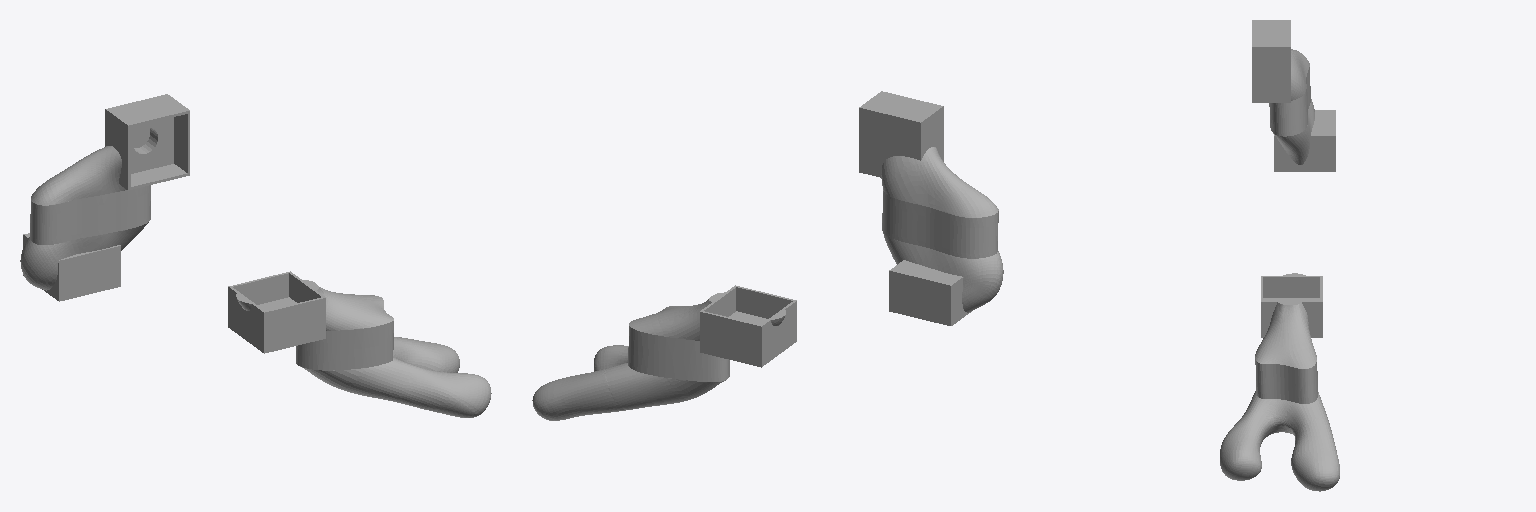
The robot description file, URDF, robot "FrogBot3_top-FrogBot3-x-6_bottom-FrogBot3-x-6":
<?xml version="1.0" ?>
<robot name="FrogBot3_top-FrogBot3-x-6_bottom-FrogBot3-x-6">

<material name="pla_5_percent_infill">
  <color rgba="0.700 0.700 0.700 1.000"/>
</material>

<link name="base_link">
  <inertial>
    <origin xyz="0 0 0" rpy="0 0 0"/>
    <mass value="1.5419899792307459"/>
    <inertia ixx="0.0054836076661745285" iyy="0.013703915460827342" izz="0.013742849788882953" ixy="5.961000823851627e-05" iyz="4.9944941207841843e-05" ixz="-0.0023657822822012154"/>
  </inertial>
  <visual>
    <origin xyz="0 0 0" rpy="0 0 0"/>
    <geometry>
      <mesh filename="simple_meshes/base_link.stl" scale="0.001 0.001 0.001"/>
    </geometry>
    <material name="pla_5_percent_infill"/>
  </visual>
  <collision>
    <origin xyz="0 0 0" rpy="0 0 0"/>
    <geometry>
      <mesh filename="simple_meshes/base_link.stl" scale="0.001 0.001 0.001"/>
    </geometry>
  </collision>
</link>

<link name="body_1_0_1">
  <inertial>
    <origin xyz="-0.065859 -0.113451 -0.001976" rpy="0 0 0"/>
    <mass value="0.05043908989480724"/>
    <inertia ixx="5.151558149315378e-05" iyy="6.866318900785719e-05" izz="2.897932103452334e-05" ixy="3.589591955085558e-06" iyz="4.757608579890023e-06" ixz="-1.8146799378408667e-05"/>
  </inertial>
  <visual>
    <origin xyz="-0.065859 -0.113451 -0.001976" rpy="0 0 0"/>
    <geometry>
      <mesh filename="simple_meshes/body_1_0_1.stl" scale="0.001 0.001 0.001"/>
    </geometry>
    <material name="pla_5_percent_infill"/>
  </visual>
  <collision>
    <origin xyz="-0.065859 -0.113451 -0.001976" rpy="0 0 0"/>
    <geometry>
      <mesh filename="simple_meshes/body_1_0_1.stl" scale="0.001 0.001 0.001"/>
    </geometry>
  </collision>
</link>

<link name="body_1_1_1">
  <inertial>
    <origin xyz="0.083929 -0.113451 -0.010696" rpy="0 0 0"/>
    <mass value="0.07735615922327133"/>
    <inertia ixx="7.661127751204967e-05" iyy="0.00012118125343421517" izz="6.355575032887008e-05" ixy="6.802552610843133e-06" iyz="1.1913213214781774e-05" ixz="-3.0703826171547875e-05"/>
  </inertial>
  <visual>
    <origin xyz="0.083929 -0.113451 -0.010696" rpy="0 0 0"/>
    <geometry>
      <mesh filename="simple_meshes/body_1_1_1.stl" scale="0.001 0.001 0.001"/>
    </geometry>
    <material name="pla_5_percent_infill"/>
  </visual>
  <collision>
    <origin xyz="0.083929 -0.113451 -0.010696" rpy="0 0 0"/>
    <geometry>
      <mesh filename="simple_meshes/body_1_1_1.stl" scale="0.001 0.001 0.001"/>
    </geometry>
  </collision>
</link>

<link name="body_1_2_1">
  <inertial>
    <origin xyz="-0.060736 0.113451 -0.005366" rpy="0 0 0"/>
    <mass value="0.05252108979018033"/>
    <inertia ixx="5.6589542939458485e-05" iyy="7.25045065193594e-05" izz="2.869614373473585e-05" ixy="-3.675795222811179e-06" iyz="-6.817511518527784e-06" ixz="-1.8965648842224448e-05"/>
  </inertial>
  <visual>
    <origin xyz="-0.060736 0.113451 -0.005366" rpy="0 0 0"/>
    <geometry>
      <mesh filename="simple_meshes/body_1_2_1.stl" scale="0.001 0.001 0.001"/>
    </geometry>
    <material name="pla_5_percent_infill"/>
  </visual>
  <collision>
    <origin xyz="-0.060736 0.113451 -0.005366" rpy="0 0 0"/>
    <geometry>
      <mesh filename="simple_meshes/body_1_2_1.stl" scale="0.001 0.001 0.001"/>
    </geometry>
  </collision>
</link>

<link name="body_1_3_1">
  <inertial>
    <origin xyz="0.093982 0.113451 -0.005431" rpy="0 0 0"/>
    <mass value="0.07948951377916055"/>
    <inertia ixx="7.141694540946722e-05" iyy="0.00010771956399897018" izz="5.738964925272767e-05" ixy="-5.114019119288474e-06" iyz="-1.0652062142099184e-05" ixz="-2.2687922658366777e-05"/>
  </inertial>
  <visual>
    <origin xyz="0.093982 0.113451 -0.005431" rpy="0 0 0"/>
    <geometry>
      <mesh filename="simple_meshes/body_1_3_1.stl" scale="0.001 0.001 0.001"/>
    </geometry>
    <material name="pla_5_percent_infill"/>
  </visual>
  <collision>
    <origin xyz="0.093982 0.113451 -0.005431" rpy="0 0 0"/>
    <geometry>
      <mesh filename="simple_meshes/body_1_3_1.stl" scale="0.001 0.001 0.001"/>
    </geometry>
  </collision>
</link>

<link name="body_2_0_1">
  <inertial>
    <origin xyz="-0.026166 -0.164707 0.112895" rpy="0 0 0"/>
    <mass value="0.10714826643191856"/>
    <inertia ixx="0.00011232062327592215" iyy="0.00023869567646114549" izz="0.00020645174976957397" ixy="3.3526182007755957e-06" iyz="-4.35639341365545e-06" ixz="8.953426446172905e-05"/>
  </inertial>
  <visual>
    <origin xyz="-0.026166 -0.164707 0.112895" rpy="0 0 0"/>
    <geometry>
      <mesh filename="simple_meshes/body_2_0_1.stl" scale="0.001 0.001 0.001"/>
    </geometry>
    <material name="pla_5_percent_infill"/>
  </visual>
  <collision>
    <origin xyz="-0.026166 -0.164707 0.112895" rpy="0 0 0"/>
    <geometry>
      <mesh filename="simple_meshes/body_2_0_1.stl" scale="0.001 0.001 0.001"/>
    </geometry>
  </collision>
</link>

<link name="body_2_1_1">
  <inertial>
    <origin xyz="0.127747 -0.174737 0.112895" rpy="0 0 0"/>
    <mass value="0.08654272336315388"/>
    <inertia ixx="7.902582759414419e-05" iyy="0.00012933616828467078" izz="0.00010678204388521679" ixy="-9.998369641293046e-06" iyz="4.7074206892803484e-06" ixz="4.8814511074510075e-05"/>
  </inertial>
  <visual>
    <origin xyz="0.127747 -0.174737 0.112895" rpy="0 0 0"/>
    <geometry>
      <mesh filename="simple_meshes/body_2_1_1.stl" scale="0.001 0.001 0.001"/>
    </geometry>
    <material name="pla_5_percent_infill"/>
  </visual>
  <collision>
    <origin xyz="0.127747 -0.174737 0.112895" rpy="0 0 0"/>
    <geometry>
      <mesh filename="simple_meshes/body_2_1_1.stl" scale="0.001 0.001 0.001"/>
    </geometry>
  </collision>
</link>

<link name="body_2_2_1">
  <inertial>
    <origin xyz="-0.021708 0.167525 0.112895" rpy="0 0 0"/>
    <mass value="0.10553479928581334"/>
    <inertia ixx="0.0001104517423957535" iyy="0.0002344243881684683" izz="0.00020192699767642656" ixy="2.7259266468415873e-06" iyz="-1.9540271832285162e-06" ixz="8.83522039310464e-05"/>
  </inertial>
  <visual>
    <origin xyz="-0.021708 0.167525 0.112895" rpy="0 0 0"/>
    <geometry>
      <mesh filename="simple_meshes/body_2_2_1.stl" scale="0.001 0.001 0.001"/>
    </geometry>
    <material name="pla_5_percent_infill"/>
  </visual>
  <collision>
    <origin xyz="-0.021708 0.167525 0.112895" rpy="0 0 0"/>
    <geometry>
      <mesh filename="simple_meshes/body_2_2_1.stl" scale="0.001 0.001 0.001"/>
    </geometry>
  </collision>
</link>

<link name="body_2_3_1">
  <inertial>
    <origin xyz="0.128136 0.172985 0.112895" rpy="0 0 0"/>
    <mass value="0.08224483900108041"/>
    <inertia ixx="7.890333613309614e-05" iyy="0.00012101153974773595" izz="0.00010430102057424782" ixy="8.194643963568664e-06" iyz="-6.076693565532521e-06" ixz="4.459435309488776e-05"/>
  </inertial>
  <visual>
    <origin xyz="0.128136 0.172985 0.112895" rpy="0 0 0"/>
    <geometry>
      <mesh filename="simple_meshes/body_2_3_1.stl" scale="0.001 0.001 0.001"/>
    </geometry>
    <material name="pla_5_percent_infill"/>
  </visual>
  <collision>
    <origin xyz="0.128136 0.172985 0.112895" rpy="0 0 0"/>
    <geometry>
      <mesh filename="simple_meshes/body_2_3_1.stl" scale="0.001 0.001 0.001"/>
    </geometry>
  </collision>
</link>

<joint name="joint_1_0" type="revolute">
  <origin xyz="0.065859 0.113451 0.001976" rpy="0 0 0"/>
  <parent link="base_link"/>
  <child link="body_1_0_1"/>
  <axis xyz="1.0 0.0 0.0"/>
  <limit upper="1.2" lower="-1.2" effort="3.8" velocity="5.4"/>
</joint>
<transmission name="joint_1_0_tran">
  <type>transmission_interface/SimpleTransmission</type>
  <joint name="joint_1_0">
    <hardwareInterface>PositionJointInterface</hardwareInterface>
  </joint>
  <actuator name="joint_1_0_actr">
    <hardwareInterface>PositionJointInterface</hardwareInterface>
    <mechanicalReduction>1</mechanicalReduction>
  </actuator>
</transmission>

<joint name="joint_1_1" type="revolute">
  <origin xyz="-0.083929 0.113451 0.010696" rpy="0 0 0"/>
  <parent link="base_link"/>
  <child link="body_1_1_1"/>
  <axis xyz="1.0 0.0 0.0"/>
  <limit upper="1.2" lower="-1.2" effort="3.8" velocity="5.4"/>
</joint>
<transmission name="joint_1_1_tran">
  <type>transmission_interface/SimpleTransmission</type>
  <joint name="joint_1_1">
    <hardwareInterface>PositionJointInterface</hardwareInterface>
  </joint>
  <actuator name="joint_1_1_actr">
    <hardwareInterface>PositionJointInterface</hardwareInterface>
    <mechanicalReduction>1</mechanicalReduction>
  </actuator>
</transmission>

<joint name="joint_1_2" type="revolute">
  <origin xyz="0.060736 -0.113451 0.005366" rpy="0 0 0"/>
  <parent link="base_link"/>
  <child link="body_1_2_1"/>
  <axis xyz="1.0 0.0 0.0"/>
  <limit upper="1.2" lower="-1.2" effort="3.8" velocity="5.4"/>
</joint>
<transmission name="joint_1_2_tran">
  <type>transmission_interface/SimpleTransmission</type>
  <joint name="joint_1_2">
    <hardwareInterface>PositionJointInterface</hardwareInterface>
  </joint>
  <actuator name="joint_1_2_actr">
    <hardwareInterface>PositionJointInterface</hardwareInterface>
    <mechanicalReduction>1</mechanicalReduction>
  </actuator>
</transmission>

<joint name="joint_1_3" type="revolute">
  <origin xyz="-0.093982 -0.113451 0.005431" rpy="0 0 0"/>
  <parent link="base_link"/>
  <child link="body_1_3_1"/>
  <axis xyz="1.0 0.0 0.0"/>
  <limit upper="1.2" lower="-1.2" effort="3.8" velocity="5.4"/>
</joint>
<transmission name="joint_1_3_tran">
  <type>transmission_interface/SimpleTransmission</type>
  <joint name="joint_1_3">
    <hardwareInterface>PositionJointInterface</hardwareInterface>
  </joint>
  <actuator name="joint_1_3_actr">
    <hardwareInterface>PositionJointInterface</hardwareInterface>
    <mechanicalReduction>1</mechanicalReduction>
  </actuator>
</transmission>

<joint name="joint_2_0" type="revolute">
  <origin xyz="-0.039693 0.051256 -0.114871" rpy="0 0 0"/>
  <parent link="body_1_0_1"/>
  <child link="body_2_0_1"/>
  <axis xyz="1.0 0.0 0.0"/>
  <limit upper="1.2" lower="-1.2" effort="3.8" velocity="5.4"/>
</joint>
<transmission name="joint_2_0_tran">
  <type>transmission_interface/SimpleTransmission</type>
  <joint name="joint_2_0">
    <hardwareInterface>PositionJointInterface</hardwareInterface>
  </joint>
  <actuator name="joint_2_0_actr">
    <hardwareInterface>PositionJointInterface</hardwareInterface>
    <mechanicalReduction>1</mechanicalReduction>
  </actuator>
</transmission>

<joint name="joint_2_1" type="revolute">
  <origin xyz="-0.043818 0.061286 -0.123591" rpy="0 0 0"/>
  <parent link="body_1_1_1"/>
  <child link="body_2_1_1"/>
  <axis xyz="1.0 0.0 0.0"/>
  <limit upper="1.2" lower="-1.2" effort="3.8" velocity="5.4"/>
</joint>
<transmission name="joint_2_1_tran">
  <type>transmission_interface/SimpleTransmission</type>
  <joint name="joint_2_1">
    <hardwareInterface>PositionJointInterface</hardwareInterface>
  </joint>
  <actuator name="joint_2_1_actr">
    <hardwareInterface>PositionJointInterface</hardwareInterface>
    <mechanicalReduction>1</mechanicalReduction>
  </actuator>
</transmission>

<joint name="joint_2_2" type="revolute">
  <origin xyz="-0.039028 -0.054074 -0.118261" rpy="0 0 0"/>
  <parent link="body_1_2_1"/>
  <child link="body_2_2_1"/>
  <axis xyz="1.0 0.0 0.0"/>
  <limit upper="1.2" lower="-1.2" effort="3.8" velocity="5.4"/>
</joint>
<transmission name="joint_2_2_tran">
  <type>transmission_interface/SimpleTransmission</type>
  <joint name="joint_2_2">
    <hardwareInterface>PositionJointInterface</hardwareInterface>
  </joint>
  <actuator name="joint_2_2_actr">
    <hardwareInterface>PositionJointInterface</hardwareInterface>
    <mechanicalReduction>1</mechanicalReduction>
  </actuator>
</transmission>

<joint name="joint_2_3" type="revolute">
  <origin xyz="-0.034154 -0.059534 -0.118326" rpy="0 0 0"/>
  <parent link="body_1_3_1"/>
  <child link="body_2_3_1"/>
  <axis xyz="1.0 0.0 0.0"/>
  <limit upper="1.2" lower="-1.2" effort="3.8" velocity="5.4"/>
</joint>
<transmission name="joint_2_3_tran">
  <type>transmission_interface/SimpleTransmission</type>
  <joint name="joint_2_3">
    <hardwareInterface>PositionJointInterface</hardwareInterface>
  </joint>
  <actuator name="joint_2_3_actr">
    <hardwareInterface>PositionJointInterface</hardwareInterface>
    <mechanicalReduction>1</mechanicalReduction>
  </actuator>
</transmission>

</robot>

--- Facts derived from the render (not from the file) ---
The picture shows the robot from 3 angles, left to right: view 1: azimuth 30°, elevation 25°; view 2: azimuth 150°, elevation 25°; view 3: azimuth 270°, elevation 25°; orthographic projection.
Robot: FrogBot3_top-FrogBot3-x-6_bottom-FrogBot3-x-6 — 9 links, 8 joints (8 revolute); root link base_link; default pose: every joint at zero.
Links seen in each view (by area): view 1: body_1_1_1, body_2_0_1; view 2: body_1_1_1, body_2_0_1; view 3: body_2_0_1, body_1_1_1.
Link boxes in pixels (<box>): body_1_1_1: <box>20,94,189,301</box>; body_2_0_1: <box>228,271,491,417</box>; body_1_1_1: <box>859,91,1003,325</box>; body_2_0_1: <box>532,285,796,420</box>; body_2_0_1: <box>1220,273,1339,491</box>; body_1_1_1: <box>1252,20,1335,171</box>.
Size in the robot's own frame: 0.3509 by 0.094 by 0.2758 metres.
2 mesh visuals loaded from 9 distinct referenced files (2 binary STL); not drawn: 7 (reference not matched to a file when rendering).